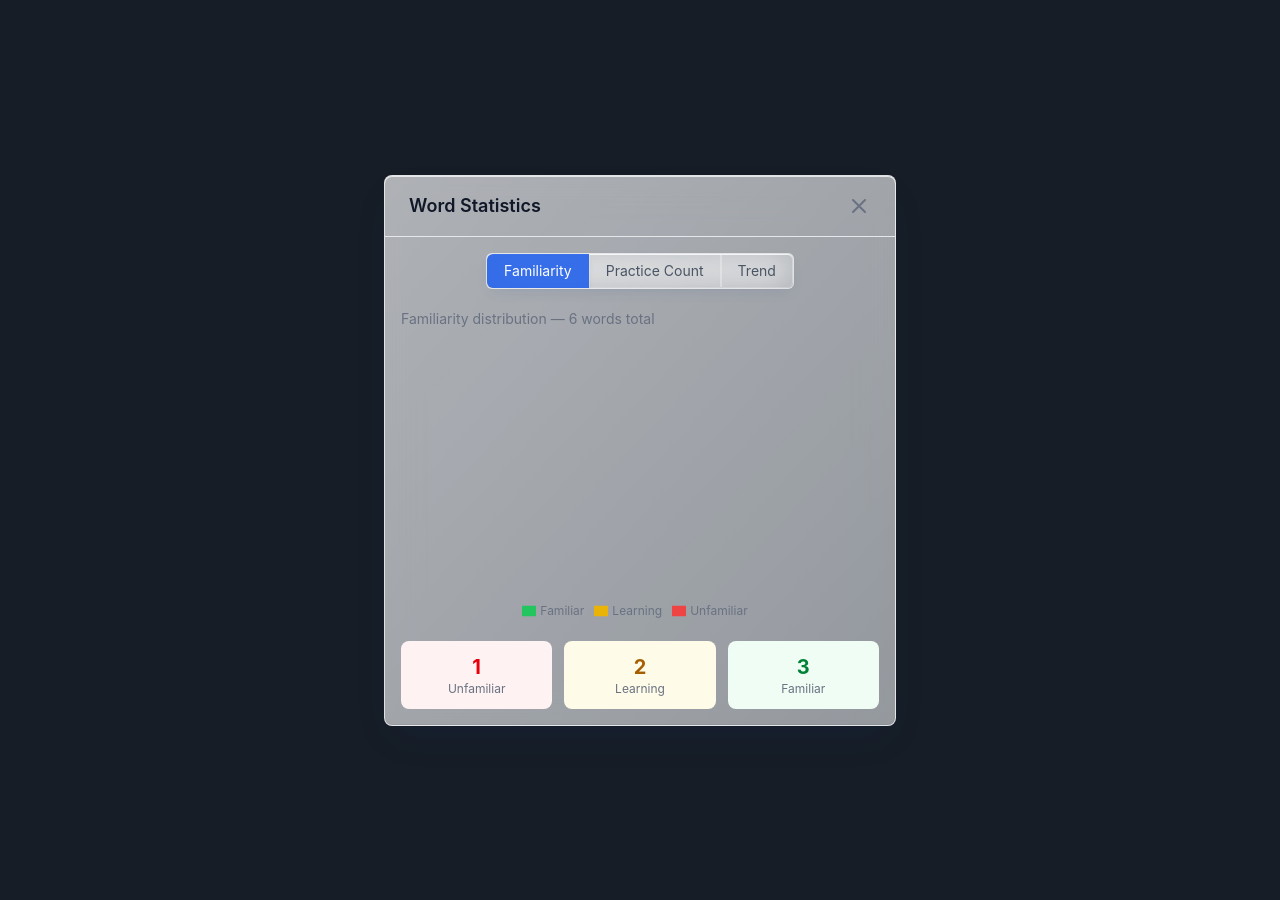
WordStatsModal › shows the empty state on the trend tab when there is no practice activity
Expected: the text "Familiarity distribution — 6 words total" is shown, [401, 310, 654, 326]
Click the button "Trend" at (757, 270), box [721, 254, 793, 288]
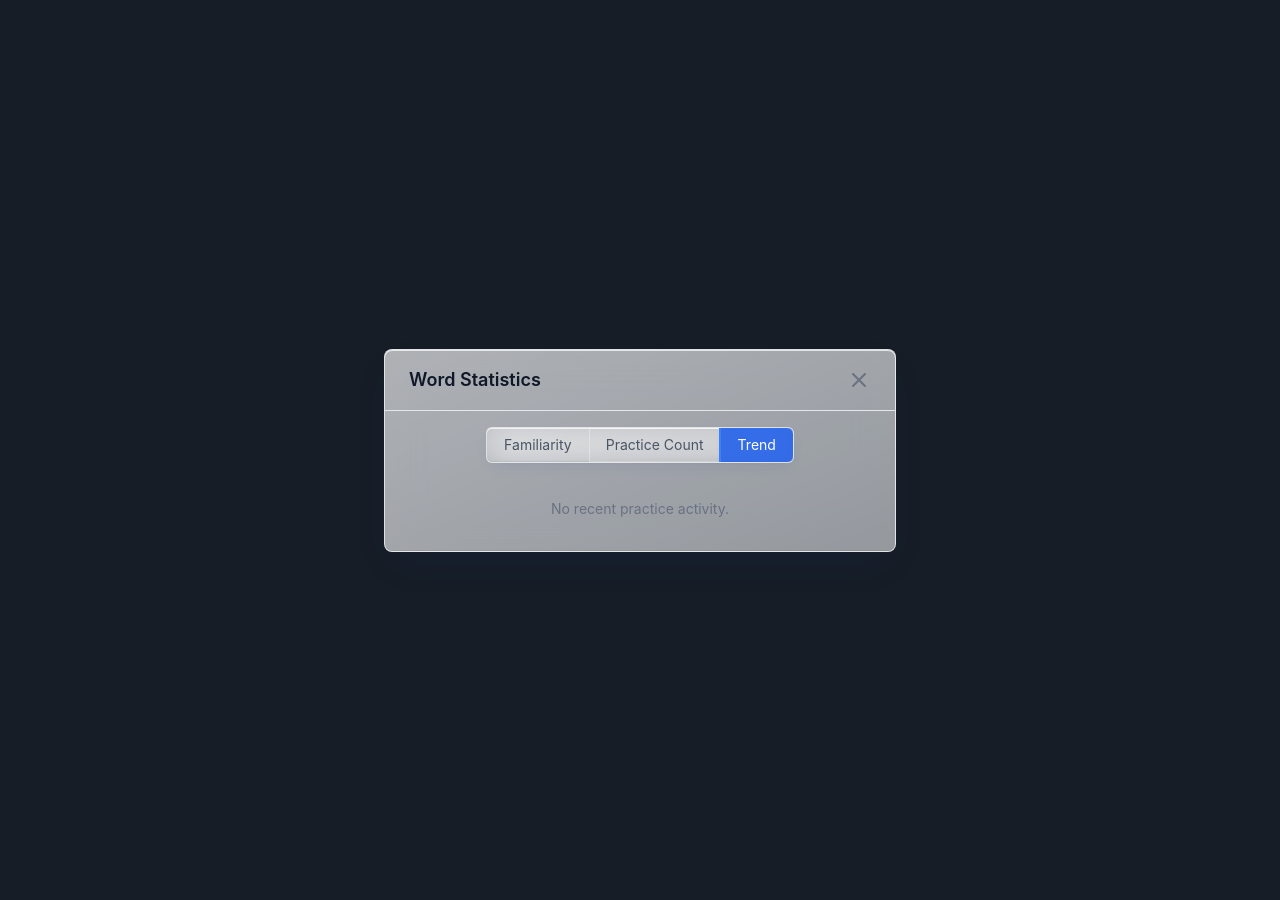
Expected: the text "No recent practice activity." is shown, [551, 500, 729, 516]
